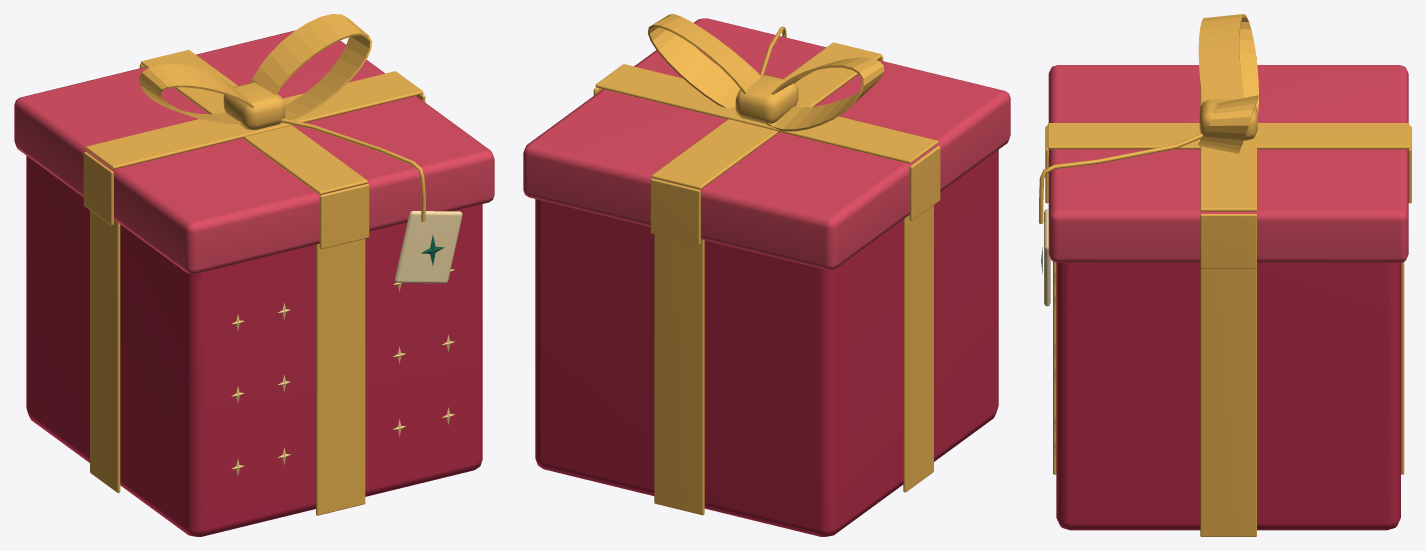
Rendered from present.glb.
The picture shows the model from 3 angles, left to right: view 1: azimuth 30°, elevation 25°; view 2: azimuth 150°, elevation 25°; view 3: azimuth 270°, elevation 25°; orthographic projection.
Visible parts, largest first — view 1: present; view 2: present; view 3: present.
Part boxes in pixels (x1,y1,x2,y2): present: (14,14,494,536); present: (523,14,1010,536); present: (1039,14,1411,536).
Size of the model in its own units: 0.489 by 0.5952 by 0.4974.
